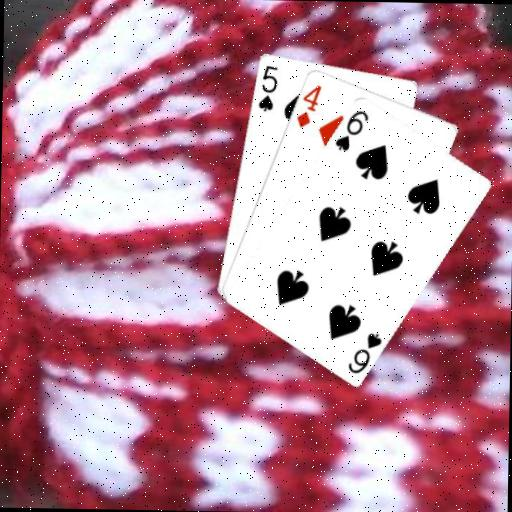4D: (292, 81, 323, 129)
5S: (255, 62, 280, 113)
6S: (345, 329, 384, 376), (332, 106, 370, 153)
